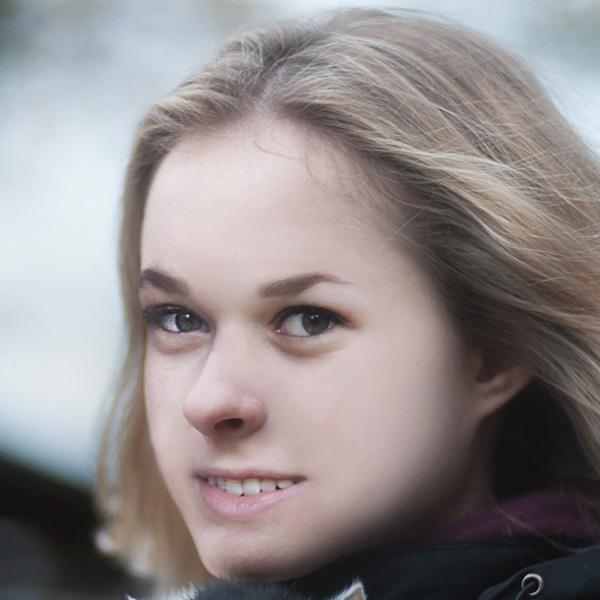Eyes: (259, 298, 353, 353), (139, 294, 219, 347)
